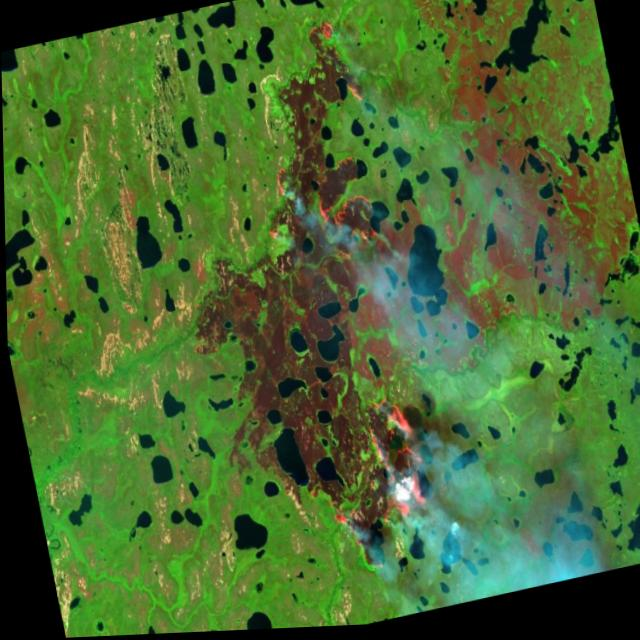fire: (218, 0, 414, 298), (298, 377, 453, 594)
